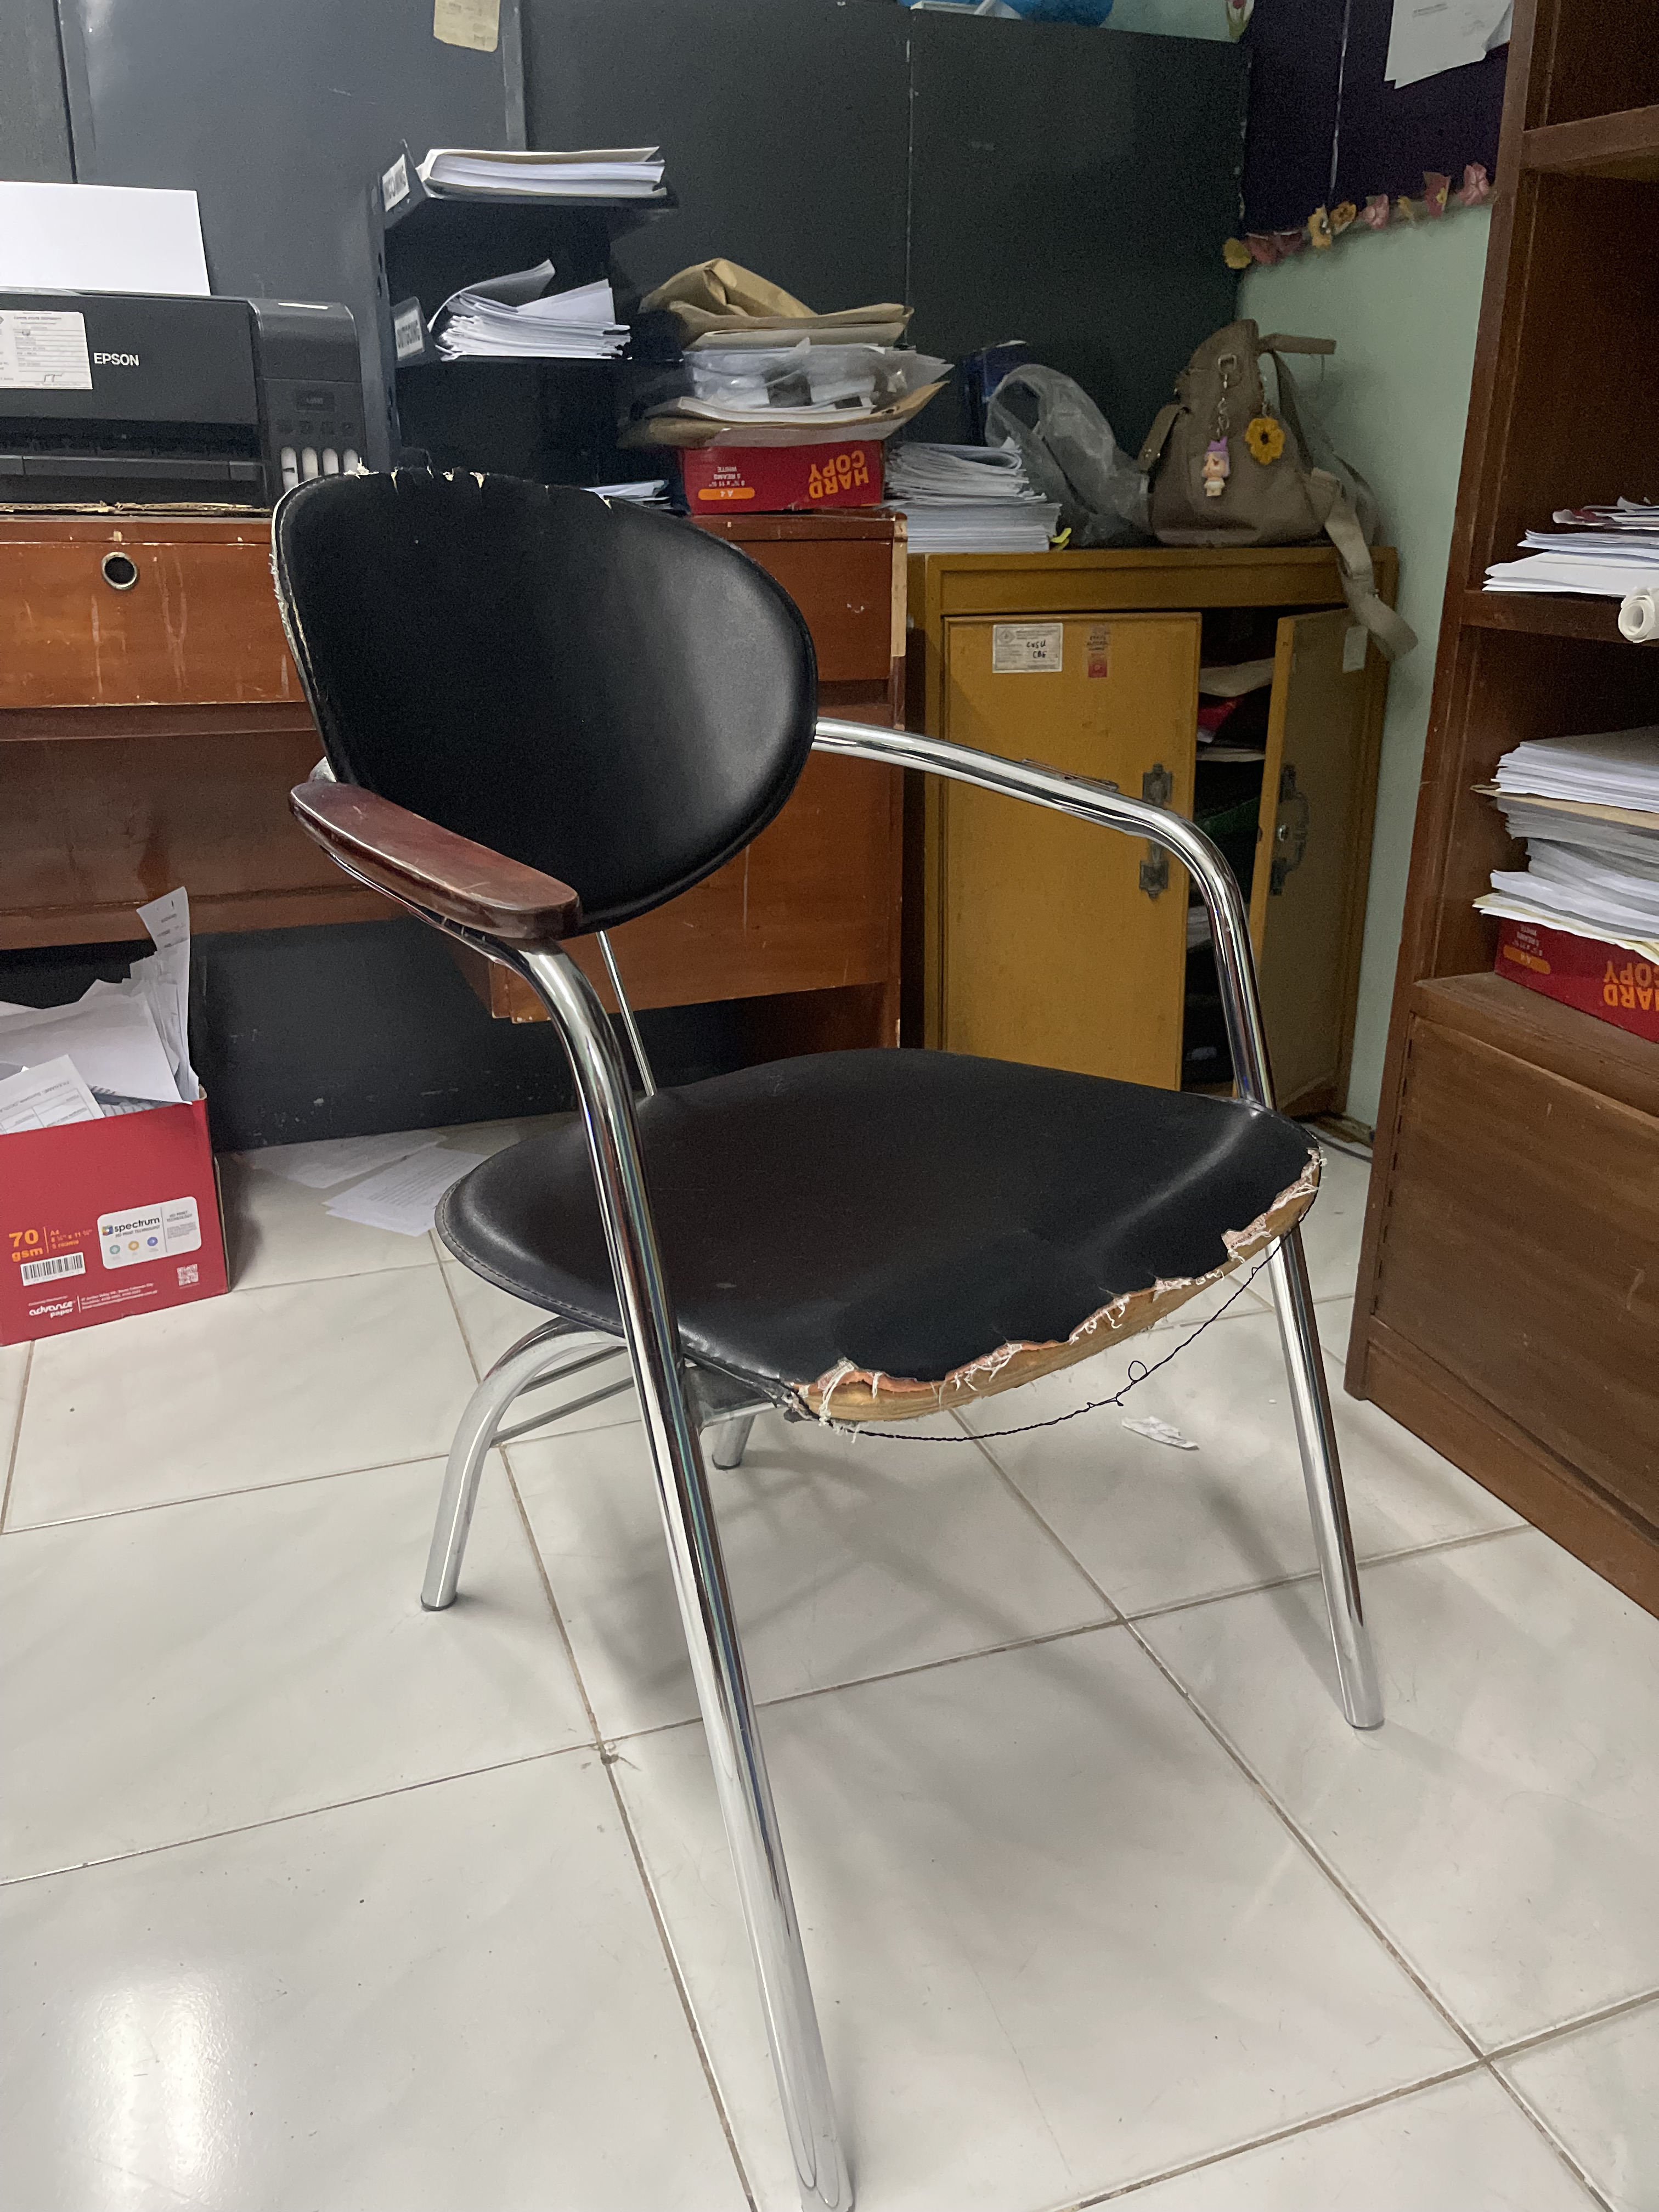chair1: (272, 472, 1394, 2212)
